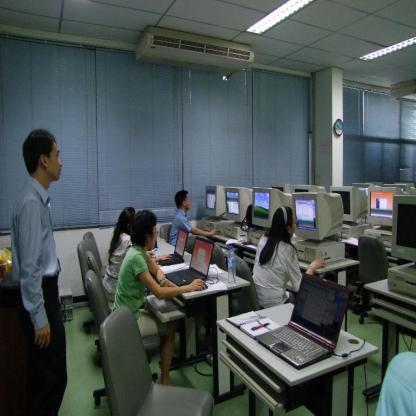board: (256, 272, 350, 370), (164, 236, 215, 288), (156, 226, 189, 266), (228, 247, 236, 282)
